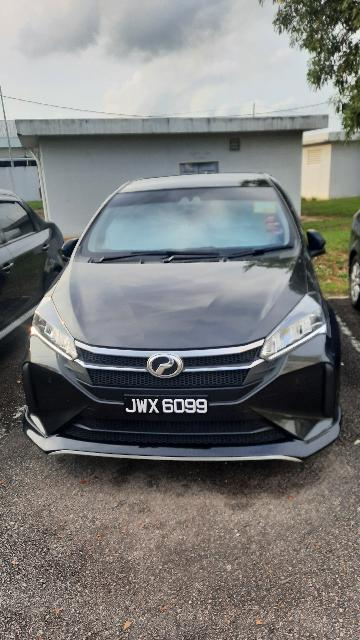License_Plate: (108, 389, 220, 424)
car: (23, 177, 336, 470), (2, 191, 69, 350), (350, 211, 360, 312)
